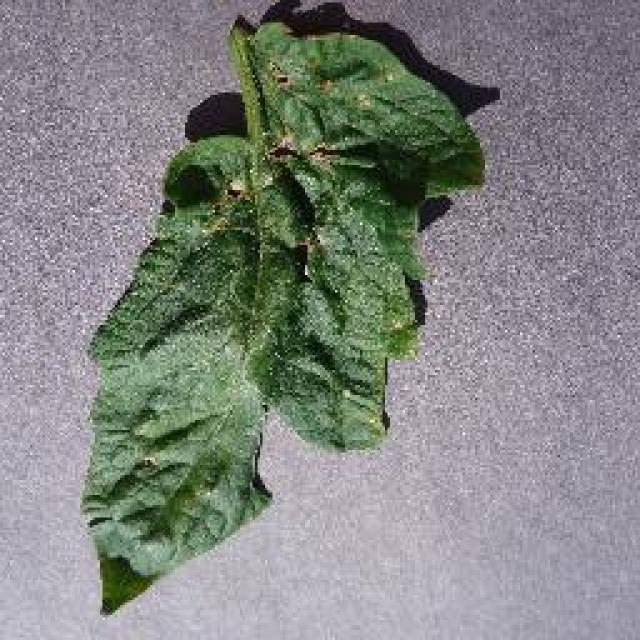Tomato___Target_Spot: (80, 18, 482, 610)
